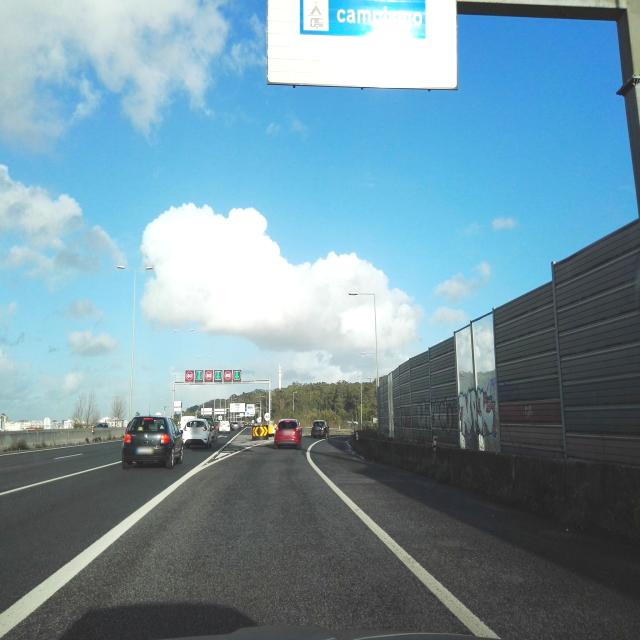car: (122, 414, 184, 469), (182, 416, 214, 449), (272, 418, 302, 450), (198, 414, 220, 440), (310, 419, 329, 439), (218, 419, 231, 434)
